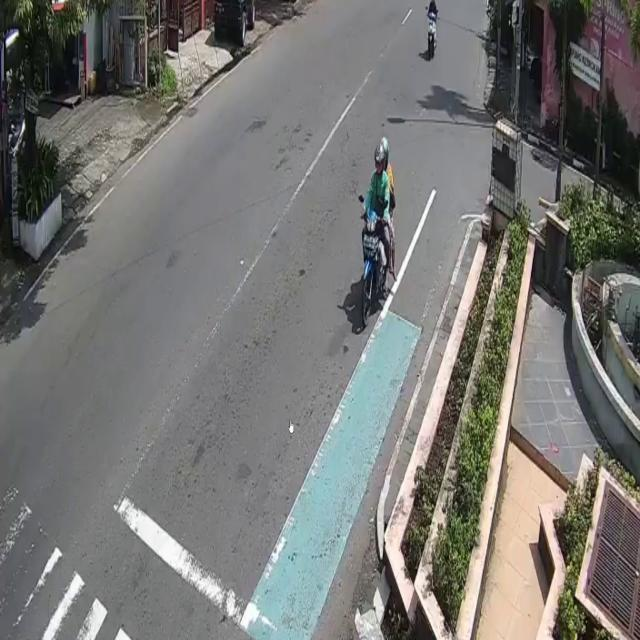motorbike: (361, 210, 389, 324), (427, 10, 437, 60)
